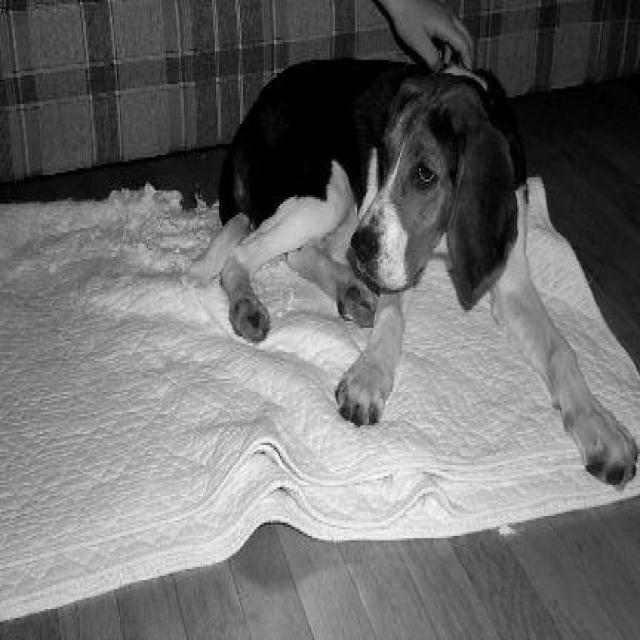laying down: (178, 49, 640, 496)
